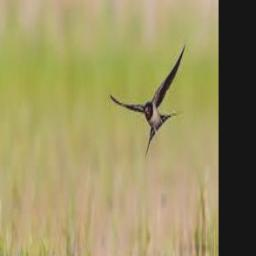Swallow: (109, 45, 185, 153)
